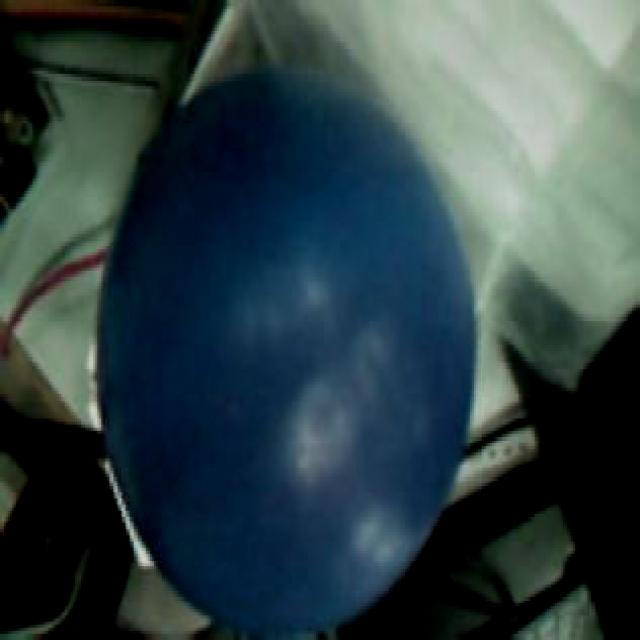BallPurple: (95, 71, 476, 640)
